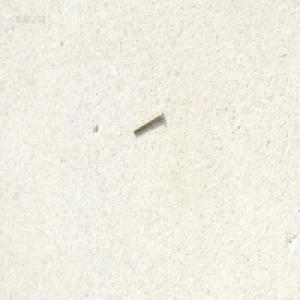Bolt: (133, 109, 164, 134)
